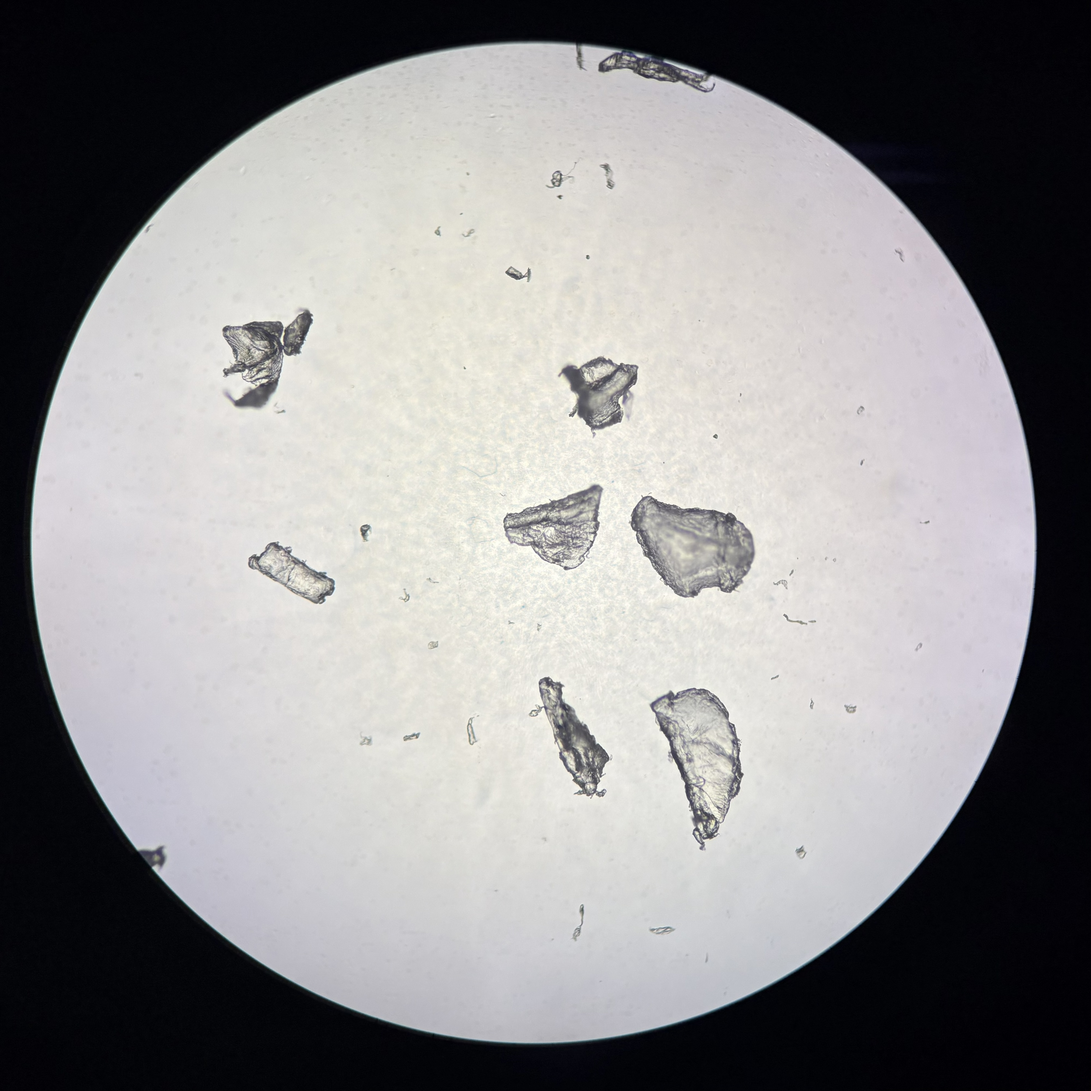microplastic: (651, 688, 740, 849), (631, 494, 755, 598), (530, 677, 612, 799), (221, 312, 311, 407), (505, 487, 600, 570), (557, 358, 639, 432), (595, 46, 716, 90), (248, 543, 334, 603), (135, 847, 166, 872), (571, 905, 584, 940), (504, 267, 531, 281), (549, 171, 571, 188), (600, 163, 613, 187), (572, 46, 586, 68), (466, 717, 476, 745), (783, 614, 808, 625), (648, 926, 675, 935), (360, 522, 372, 541), (358, 732, 372, 746), (399, 589, 410, 603), (403, 732, 420, 741), (773, 580, 788, 590), (795, 846, 806, 858), (844, 704, 857, 713), (427, 642, 439, 649), (857, 406, 865, 415), (915, 642, 922, 651), (810, 699, 814, 710), (771, 675, 778, 680), (789, 569, 794, 576), (860, 458, 864, 466), (808, 619, 815, 623)
